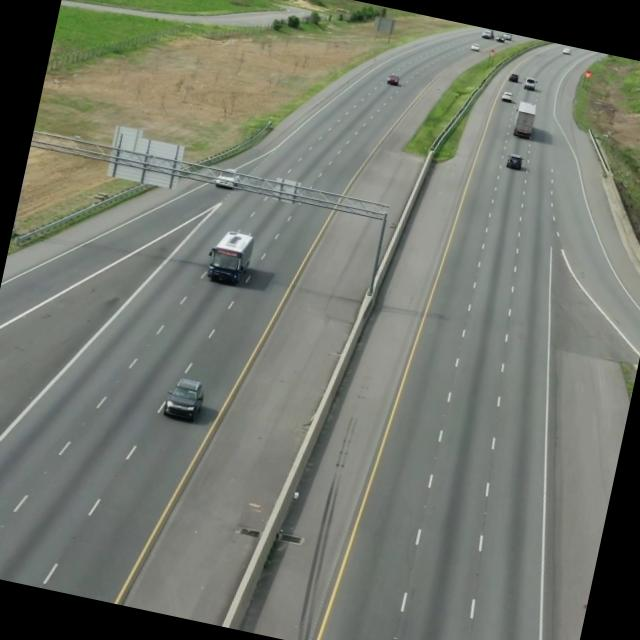Vehicle: (202, 222, 259, 293), (161, 372, 206, 426), (513, 100, 540, 142), (504, 150, 528, 174)
